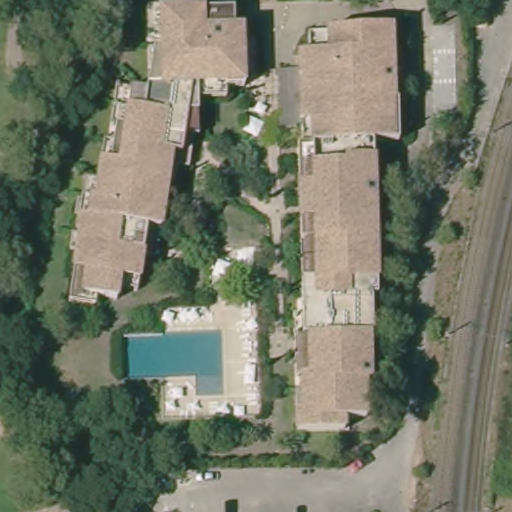pool: (119, 316, 241, 408)
